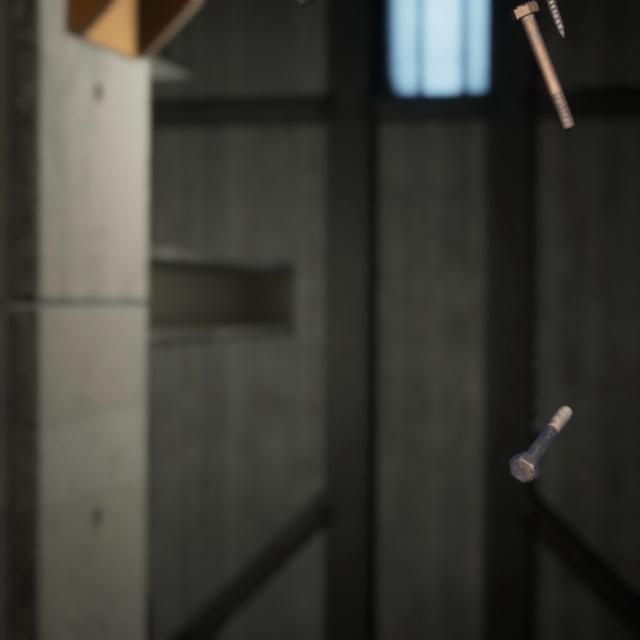bolt: (506, 0, 579, 124), (504, 381, 577, 467), (542, 0, 569, 36)
